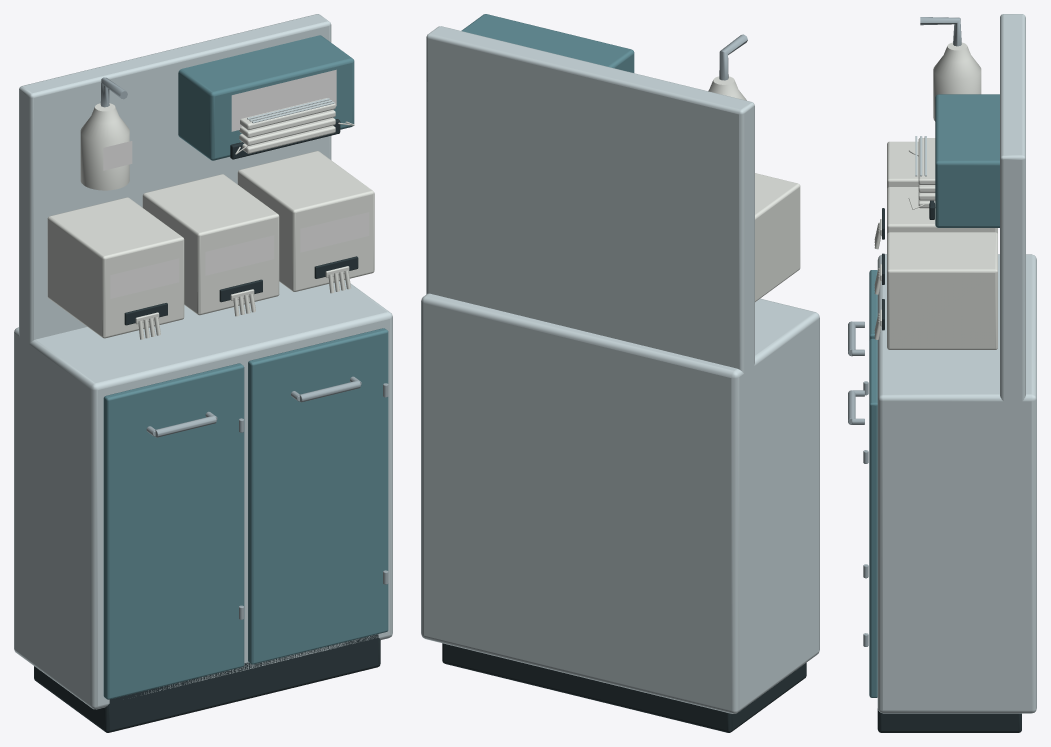
File: CP_PPEStation.fbx
3 renders of one model, left to right at view 1: azimuth 30°, elevation 25°; view 2: azimuth 150°, elevation 25°; view 3: azimuth 270°, elevation 25°, orthographic. The views are drawn at different scales.
Visible parts, largest first — view 1: CP_PPEStation; view 2: CP_PPEStation; view 3: CP_PPEStation.
Boxes of the visible parts, x1,y1,x2,y2 form: CP_PPEStation: (14, 14, 392, 732); CP_PPEStation: (421, 14, 819, 732); CP_PPEStation: (848, 14, 1036, 732).
Size of the model in its own units: 92 by 180 by 51.05.
